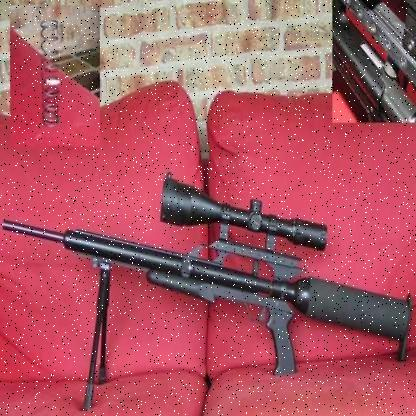rifle: (0, 185, 415, 416)
